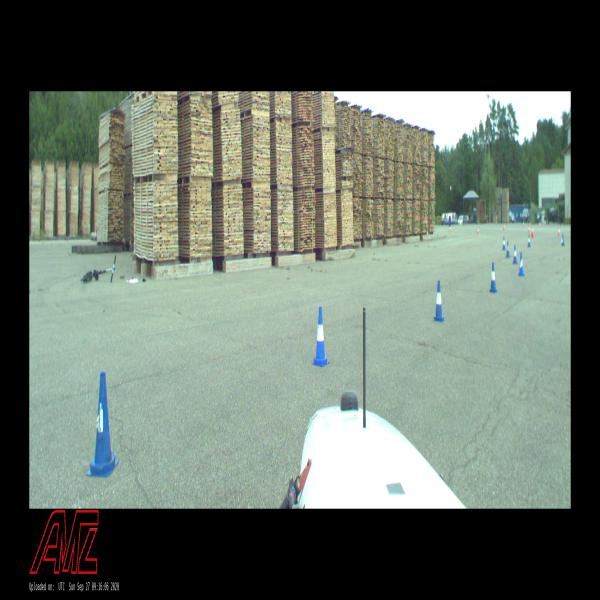blue_cone: (86, 373, 118, 475), (312, 308, 329, 366), (433, 281, 445, 320), (489, 263, 497, 292), (519, 252, 524, 276), (513, 245, 517, 264), (506, 241, 510, 258), (561, 233, 565, 246), (503, 237, 505, 250), (528, 234, 530, 247)
orange_cone: (531, 226, 534, 237), (528, 225, 531, 232), (558, 226, 560, 236), (477, 226, 479, 234), (503, 223, 505, 231), (450, 225, 452, 232), (539, 221, 541, 228), (523, 220, 524, 227)
